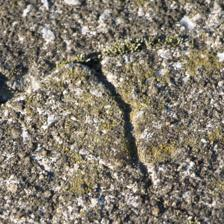Crack: (42, 26, 101, 142)
